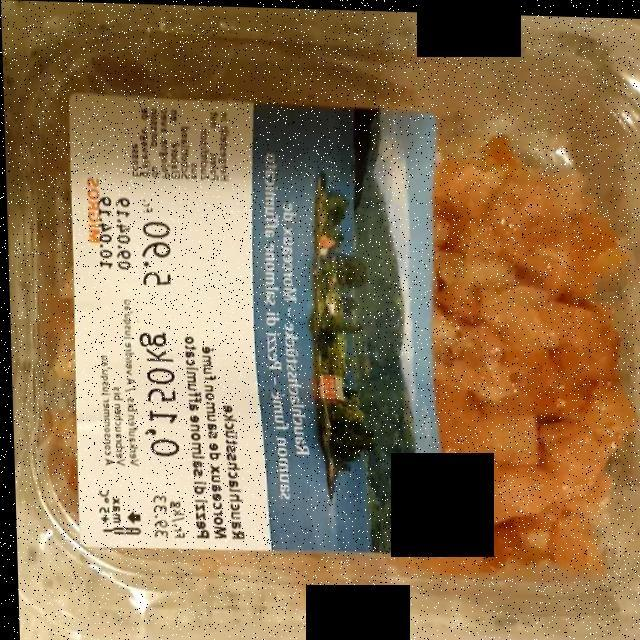salmon: (432, 140, 630, 569)
